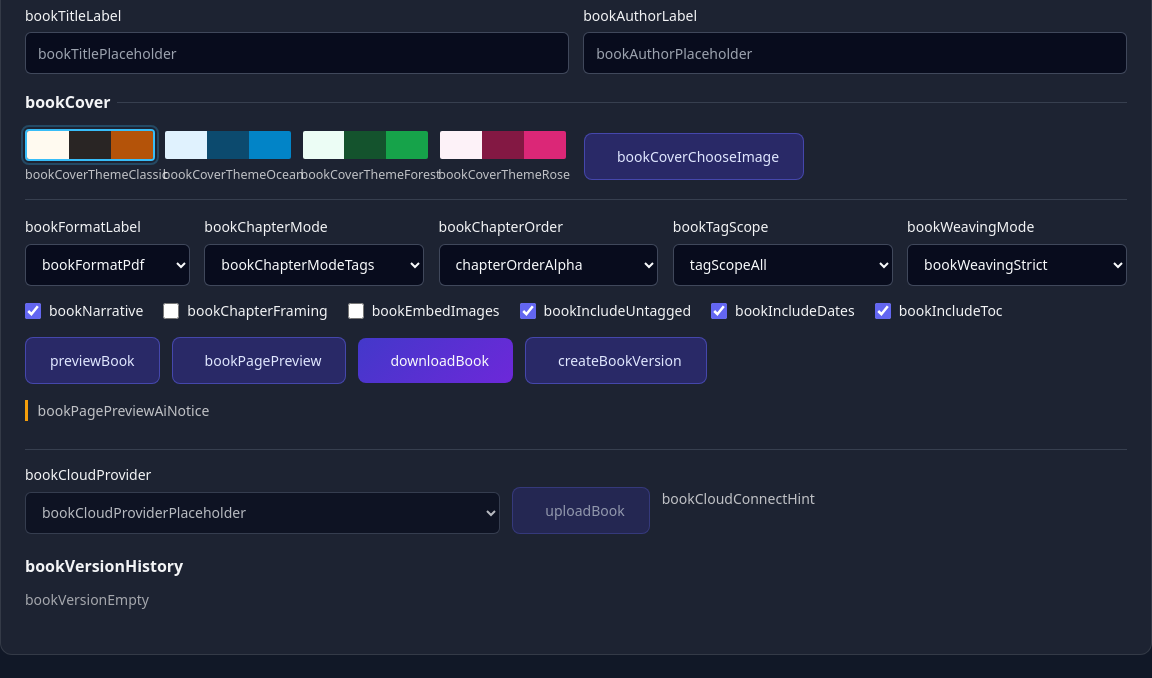
Test: ImportExport book section › shows a hint when no chapters could be built
(page scrolled)
Click the button "previewBook" at coordinates (92, 360), box [25,337,160,384]
(page scrolled)
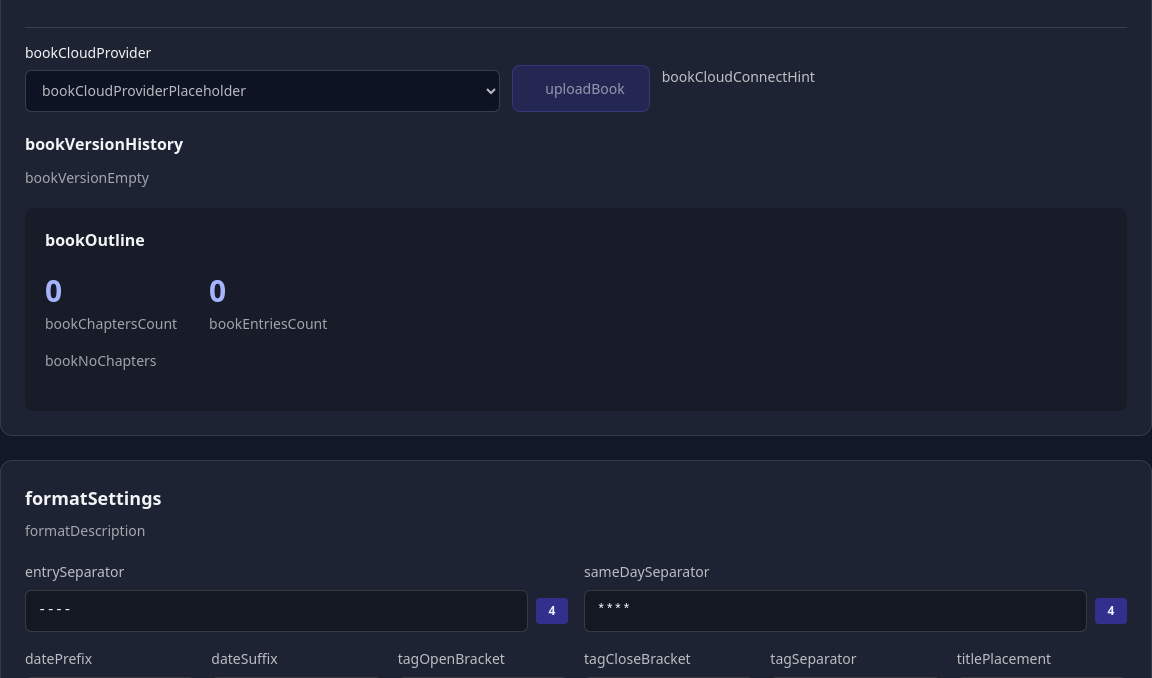
Result: the text "bookNoChapters" is shown at [45,351,156,370]
